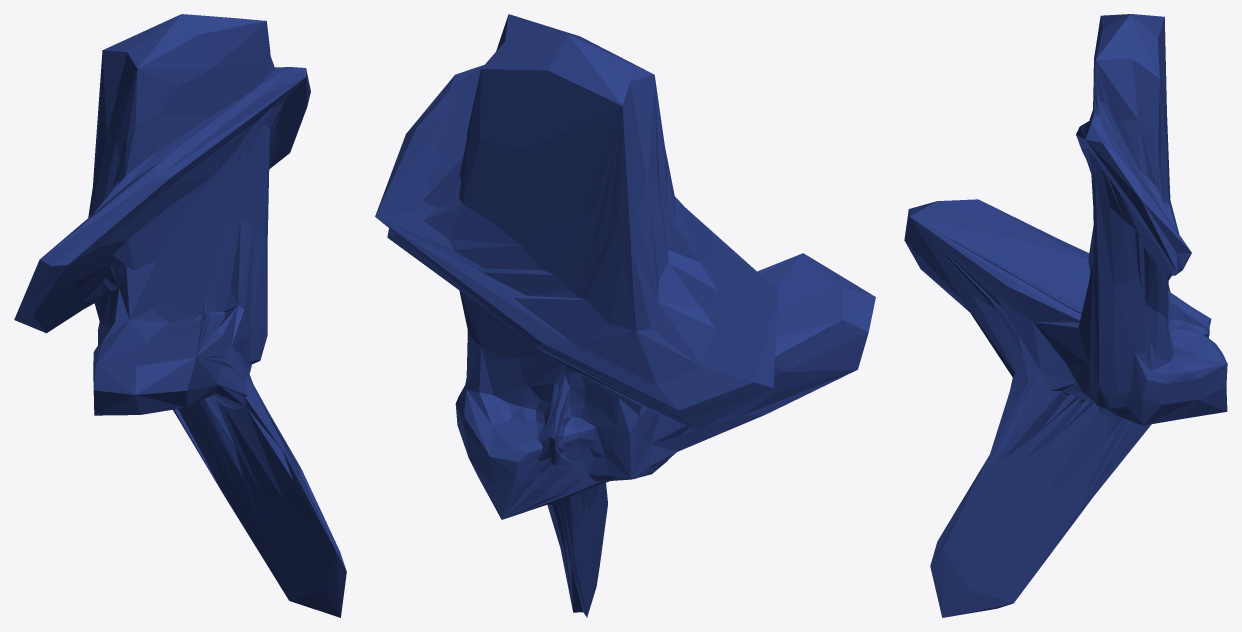
3 views of the same model, side by side, from view 1: azimuth 30°, elevation 25°; view 2: azimuth 150°, elevation 25°; view 3: azimuth 270°, elevation 25° (orthographic). The views are drawn at different scales.
Visible parts, largest first — view 1: 811_Cube.3270; view 2: 811_Cube.3270; view 3: 811_Cube.3270.
Part boxes in pixels (bbox=[...]): 811_Cube.3270: bbox=[14, 14, 346, 617]; 811_Cube.3270: bbox=[375, 14, 875, 617]; 811_Cube.3270: bbox=[904, 14, 1227, 617].
Bounding box in the file's own units: 10.96 × 18.89 × 9.71.
